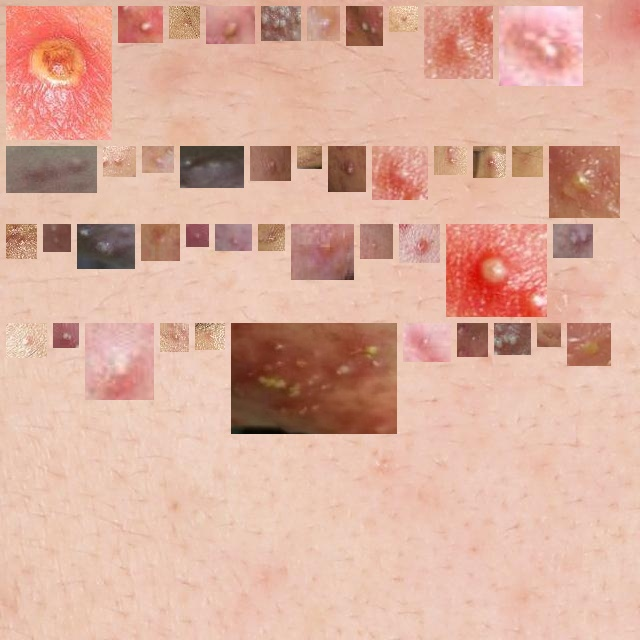pustule: (239, 331, 389, 426), (14, 14, 104, 132), (454, 232, 539, 309), (507, 14, 575, 78), (93, 331, 146, 392), (557, 154, 612, 210), (432, 14, 485, 71), (14, 154, 89, 185), (299, 232, 346, 272), (380, 154, 420, 192), (188, 154, 236, 180), (85, 232, 127, 261), (575, 331, 603, 358), (411, 331, 443, 354), (214, 14, 247, 36), (336, 154, 358, 184), (126, 14, 155, 35), (407, 232, 432, 255), (354, 14, 375, 38), (149, 232, 172, 253), (258, 154, 283, 173), (14, 331, 39, 350), (269, 14, 293, 33), (561, 232, 585, 250), (502, 331, 523, 347), (315, 14, 332, 33), (368, 232, 385, 251), (14, 232, 29, 251), (481, 154, 498, 170), (465, 331, 480, 349), (177, 14, 192, 31), (111, 154, 128, 169), (223, 232, 244, 243), (520, 154, 535, 169), (442, 154, 459, 167), (150, 154, 166, 165), (168, 331, 181, 344), (203, 331, 217, 342), (51, 232, 63, 244), (397, 14, 410, 24), (266, 232, 277, 243), (61, 331, 71, 340), (545, 331, 553, 339), (305, 154, 314, 161), (194, 232, 201, 239)
